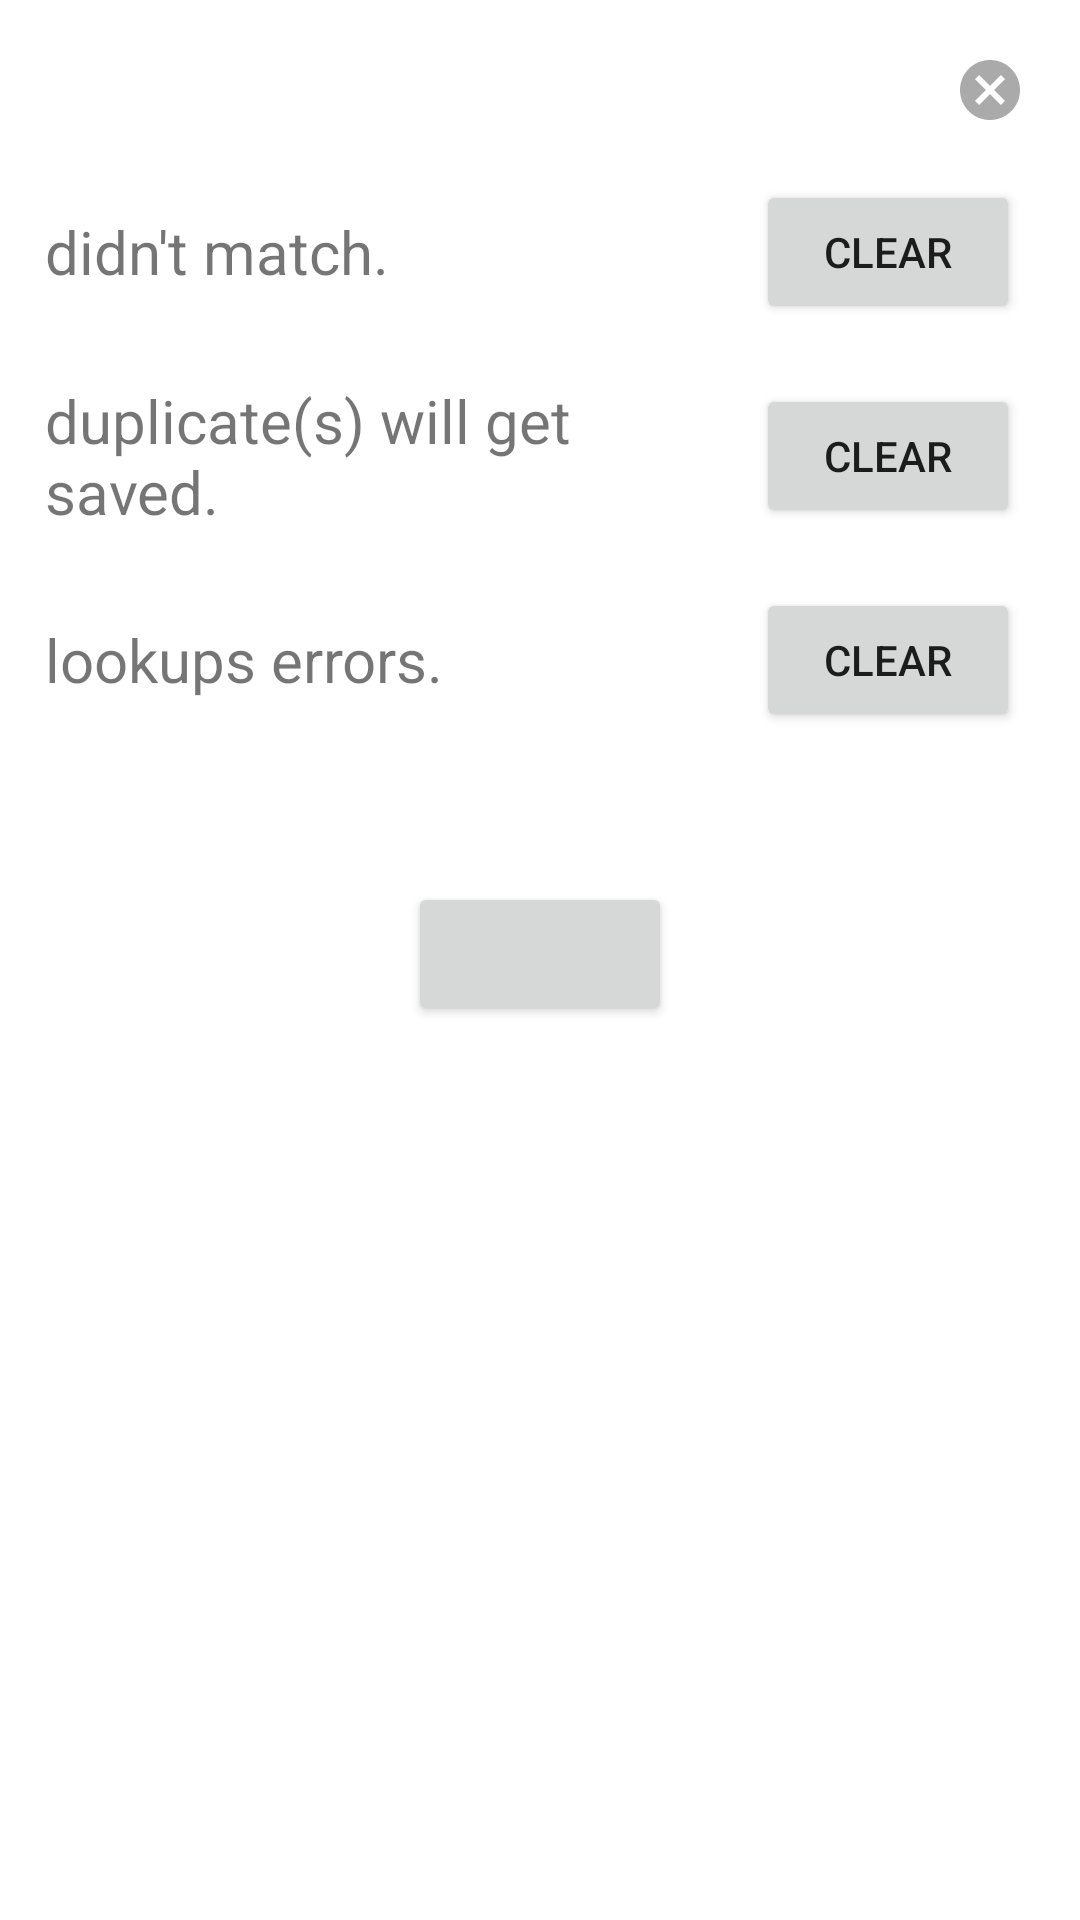

Where to tap for icons on this 1080w x 1920h app screen, as (x,y):
Cancel: (990,90)
